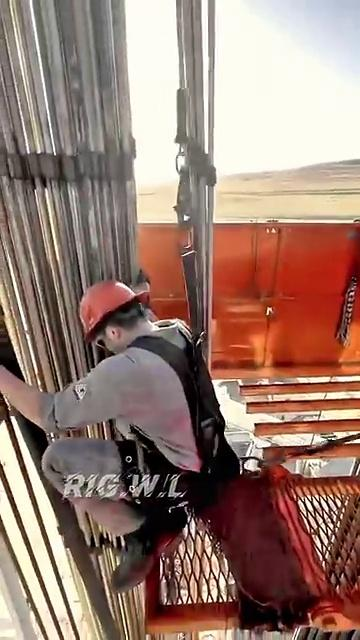helmet: (55, 250, 185, 338)
shoes: (98, 512, 192, 597)
worker: (3, 223, 255, 587)
